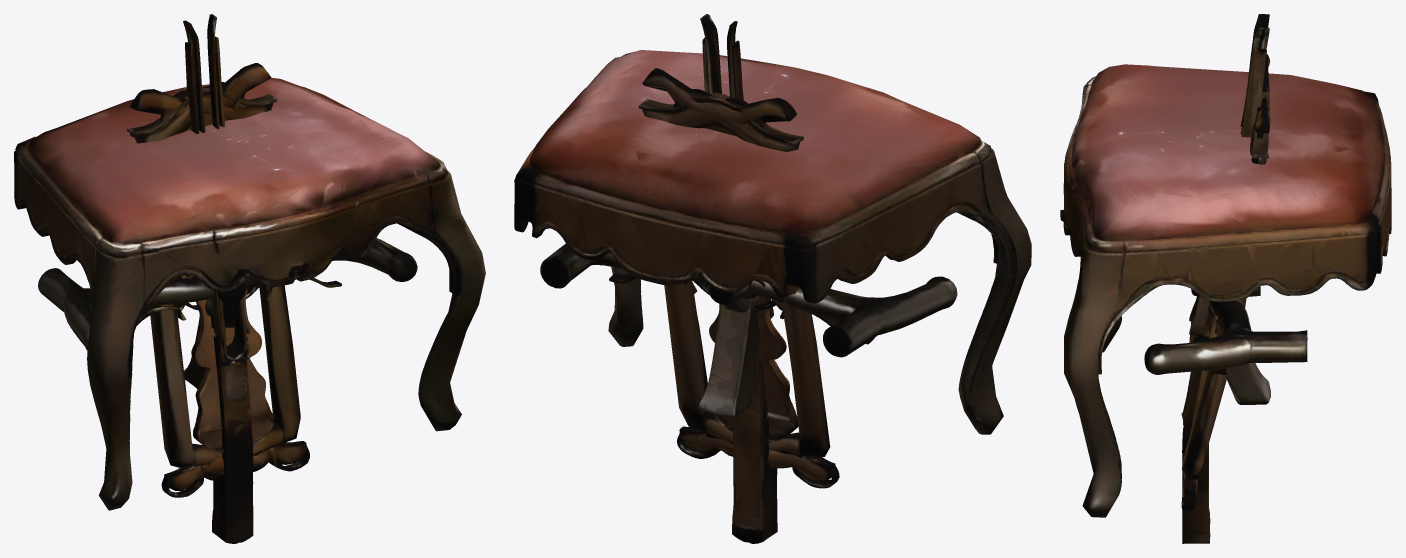
3 renders of one model, left to right at view 1: azimuth 30°, elevation 25°; view 2: azimuth 150°, elevation 25°; view 3: azimuth 270°, elevation 25°, orthographic. The views are drawn at different scales.
Parts seen in each view (by area): view 1: root.0, root.4, root.6, root.3, root.2, root.1, root.5, root.7, root.9; view 2: root.0, root.6, root.4, root.1, root.3, root.2, root.7, root.5, root.8; view 3: root.0, root.1, root.5, root.6, root.8, root.4, root.3, root.2.
Boxes of the visible parts, x1,y1,x2,y2 form: root.0: [14, 77, 485, 510]; root.4: [127, 63, 309, 471]; root.6: [130, 89, 300, 497]; root.3: [185, 14, 248, 543]; root.2: [160, 82, 274, 477]; root.1: [38, 238, 417, 350]; root.5: [183, 20, 253, 542]; root.7: [184, 284, 237, 386]; root.9: [137, 275, 341, 325]; root.0: [514, 50, 1031, 434]; root.6: [638, 93, 839, 488]; root.4: [642, 68, 830, 458]; root.1: [540, 243, 957, 357]; root.3: [700, 14, 777, 543]; root.2: [673, 89, 798, 467]; root.7: [699, 298, 759, 417]; root.5: [702, 21, 760, 542]; root.8: [699, 304, 751, 418]; root.0: [1060, 64, 1391, 517]; root.1: [1144, 300, 1307, 374]; root.5: [1182, 14, 1269, 543]; root.6: [1182, 54, 1269, 479]; root.8: [1207, 315, 1270, 404]; root.4: [1181, 94, 1270, 510]; root.3: [1182, 27, 1269, 526]; root.2: [1185, 82, 1267, 449].
Size of the model in its own units: 20045 by 24410 by 14098.
Materials: 1 (1 with a texture image).
